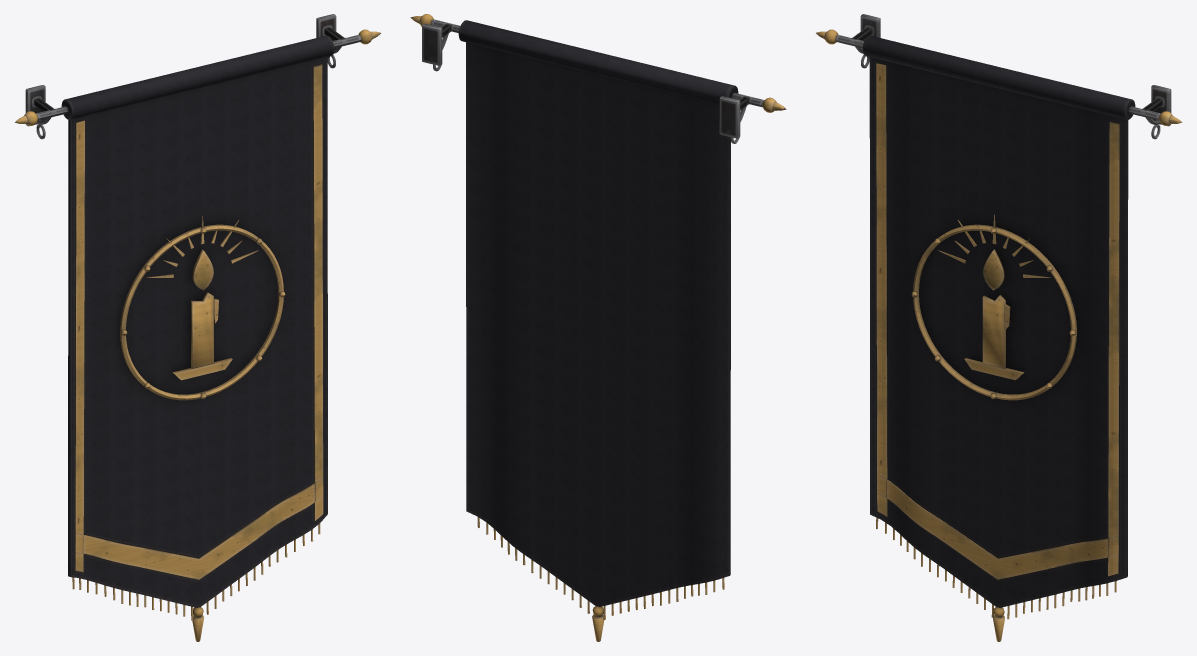
The model's file is BannerVigil.fbx.
3 views of the same model, side by side, from view 1: azimuth 30°, elevation 25°; view 2: azimuth 150°, elevation 25°; view 3: azimuth 330°, elevation 25° (orthographic). The views are drawn at different scales.
Visible parts, largest first — view 1: BannerVigil_Cloth, BannerVigil_Main; view 2: BannerVigil_Cloth, BannerVigil_Main; view 3: BannerVigil_Cloth, BannerVigil_Main.
Part boxes in pixels (bbox=[...]): BannerVigil_Cloth: bbox=[61, 35, 334, 641]; BannerVigil_Main: bbox=[15, 14, 380, 139]; BannerVigil_Cloth: bbox=[458, 20, 738, 641]; BannerVigil_Main: bbox=[410, 14, 786, 143]; BannerVigil_Cloth: bbox=[862, 35, 1135, 641]; BannerVigil_Main: bbox=[816, 14, 1181, 139].
Size of the model in its own units: 399 by 600 by 47.5.
